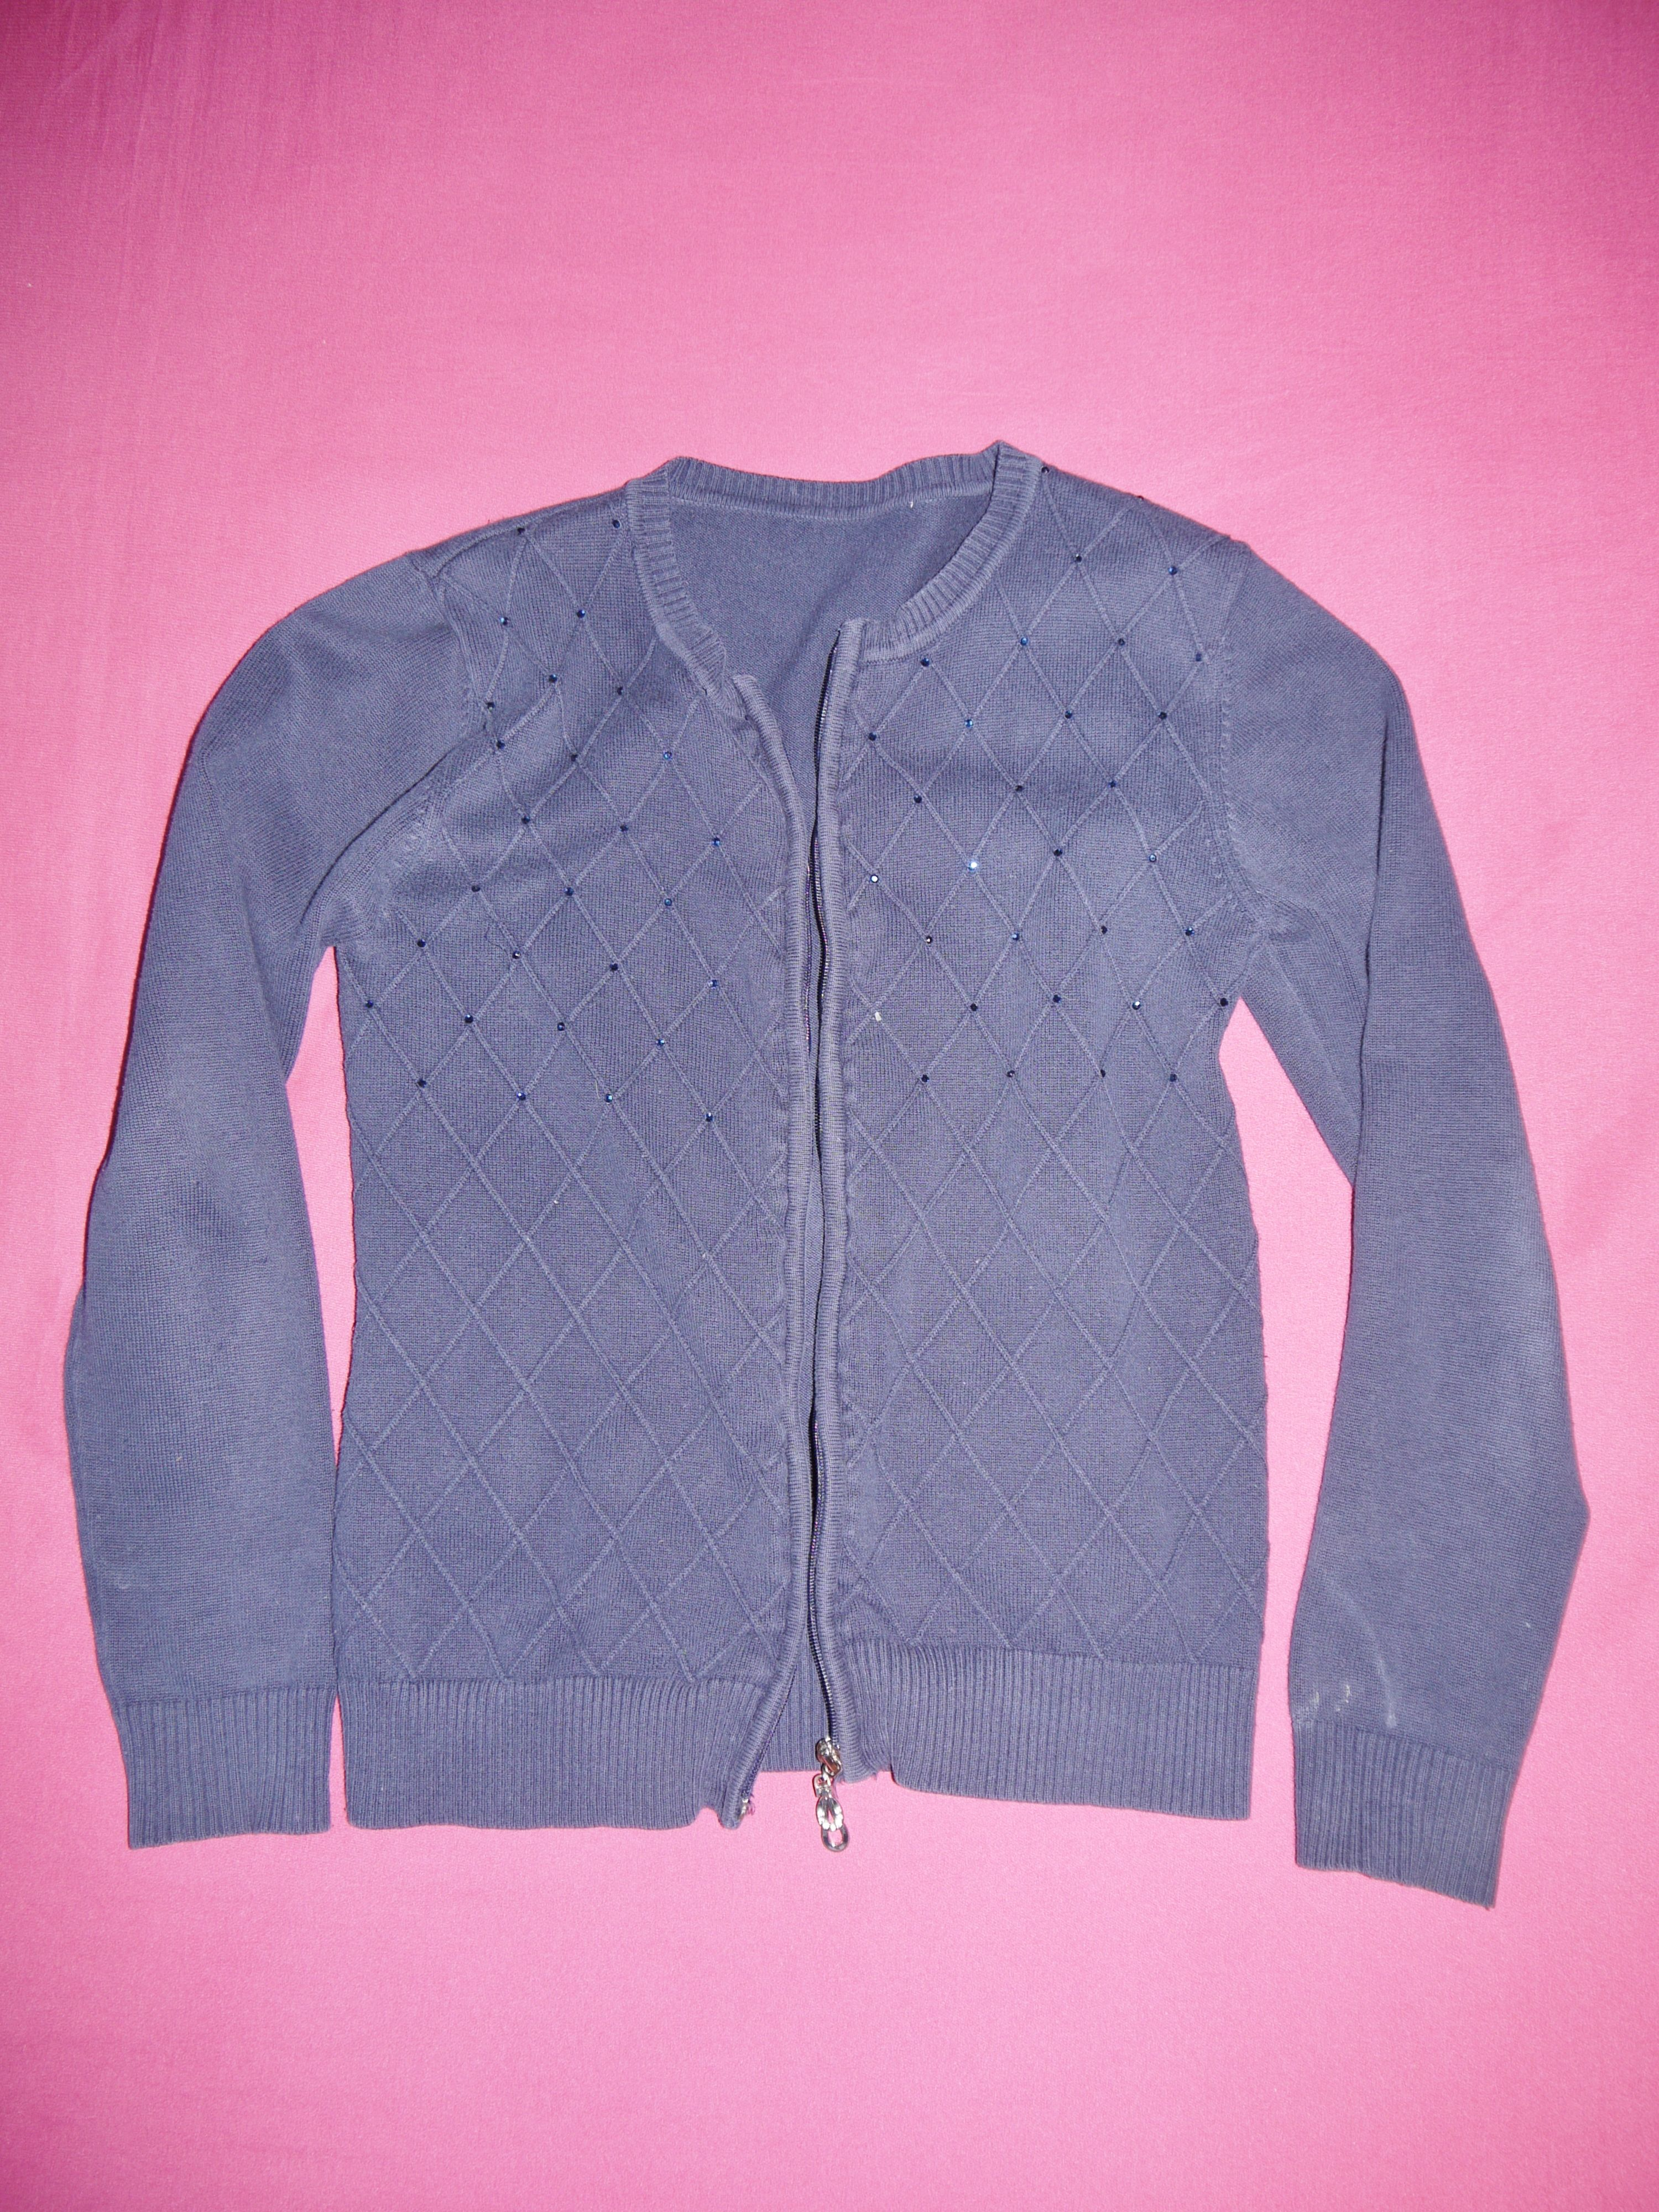clothes: (26, 449, 1575, 1956)
